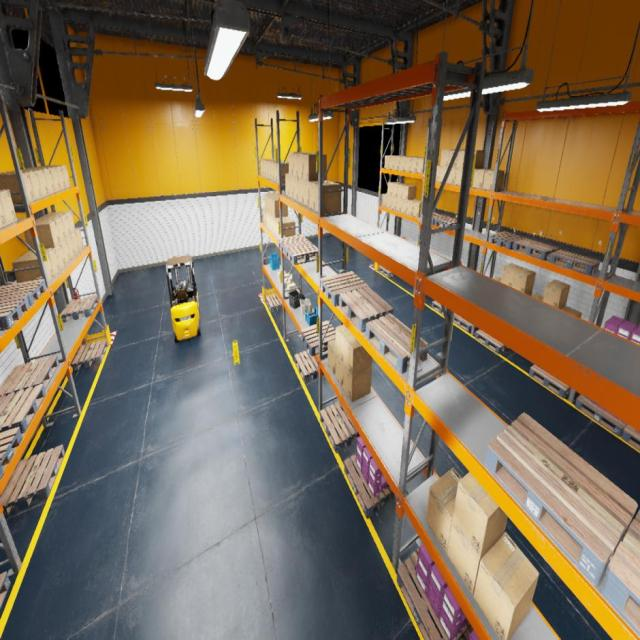box: (473, 532, 539, 639), (453, 472, 507, 558), (447, 519, 504, 594), (426, 468, 462, 554), (12, 253, 54, 283), (0, 171, 42, 199), (344, 334, 372, 376), (343, 363, 372, 402), (24, 220, 61, 250), (21, 248, 60, 276), (0, 173, 35, 204), (9, 170, 49, 197), (21, 168, 55, 195), (26, 167, 60, 192), (37, 213, 71, 238), (315, 182, 341, 214), (33, 166, 66, 190), (543, 280, 570, 308), (35, 218, 66, 242), (44, 211, 76, 234), (309, 180, 333, 210), (40, 165, 71, 188), (303, 154, 327, 182), (336, 324, 352, 363), (512, 268, 536, 294), (0, 189, 17, 225), (500, 264, 523, 288), (297, 153, 316, 180), (288, 152, 308, 176), (293, 153, 312, 178), (482, 169, 504, 190), (278, 218, 296, 238), (473, 168, 490, 189), (276, 216, 291, 238), (272, 198, 288, 217), (274, 162, 288, 183), (328, 339, 336, 375), (270, 162, 286, 180), (276, 162, 289, 184), (335, 353, 343, 388), (268, 160, 282, 180), (56, 243, 66, 270), (561, 306, 582, 318), (61, 239, 71, 264), (266, 194, 279, 213), (66, 235, 76, 259), (448, 150, 462, 167), (263, 159, 276, 177), (261, 160, 274, 177), (264, 193, 277, 210), (441, 150, 454, 167), (402, 185, 416, 200), (410, 158, 425, 172), (407, 199, 420, 215), (404, 156, 417, 172), (75, 228, 84, 251), (265, 160, 276, 178), (0, 200, 7, 228), (474, 150, 484, 169), (72, 232, 80, 255), (394, 156, 407, 170), (397, 184, 409, 199), (412, 201, 423, 217), (269, 196, 278, 215), (446, 168, 456, 185), (438, 166, 448, 183), (303, 180, 309, 208), (392, 182, 403, 197), (298, 178, 304, 204), (387, 182, 399, 195), (454, 168, 462, 186), (389, 155, 399, 169), (457, 151, 465, 168), (399, 156, 408, 171), (289, 176, 294, 200), (417, 158, 425, 173), (294, 176, 298, 202), (385, 155, 393, 168), (532, 293, 544, 301), (402, 199, 408, 214), (286, 174, 290, 196), (396, 198, 402, 212), (391, 196, 397, 210), (382, 193, 387, 207), (436, 165, 440, 182), (288, 284, 296, 292), (284, 274, 292, 282), (387, 196, 392, 208), (272, 216, 275, 235), (270, 215, 273, 232), (278, 271, 285, 278), (493, 276, 501, 282), (284, 281, 290, 288), (401, 237, 410, 241), (268, 212, 270, 229), (265, 210, 267, 227), (263, 207, 265, 224), (472, 170, 474, 187), (527, 292, 532, 296), (285, 273, 290, 276), (560, 306, 565, 309)
forklift: (166, 254, 200, 342)
pallets: (484, 413, 638, 586), (397, 544, 470, 640), (600, 509, 640, 636), (0, 444, 65, 516), (366, 313, 428, 374), (344, 453, 395, 519), (0, 355, 59, 397), (339, 287, 394, 332), (0, 383, 46, 432), (575, 395, 627, 437), (320, 400, 359, 453), (320, 272, 368, 306), (529, 364, 571, 398), (0, 278, 47, 306), (550, 249, 600, 275), (301, 321, 336, 356), (0, 426, 22, 479), (72, 339, 108, 371), (60, 295, 99, 323), (0, 295, 30, 331), (513, 238, 559, 260), (295, 349, 324, 382), (475, 330, 509, 354), (285, 242, 318, 265), (488, 231, 527, 250), (277, 235, 310, 254), (621, 425, 640, 451), (0, 571, 11, 610), (454, 313, 476, 332), (420, 212, 447, 224), (265, 294, 282, 312), (434, 217, 457, 230), (432, 300, 446, 315), (460, 625, 473, 639), (379, 266, 394, 277)
